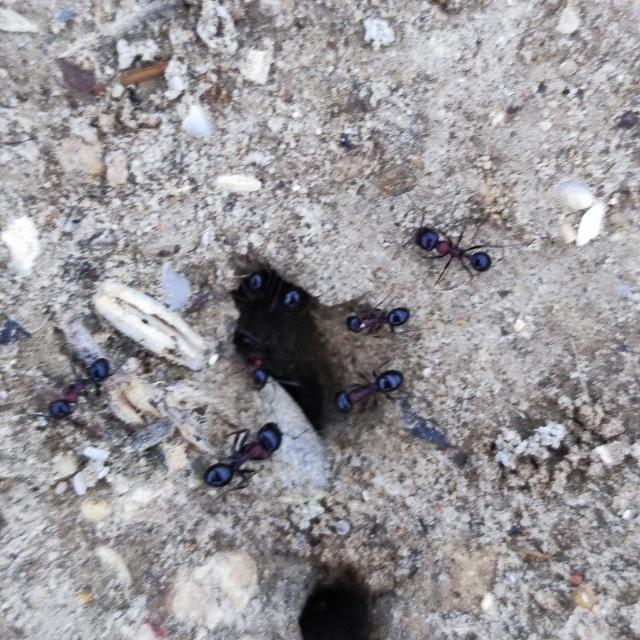Messor: (209, 413, 277, 497), (332, 356, 406, 424), (408, 220, 496, 276), (53, 345, 107, 425), (342, 296, 411, 342), (234, 327, 270, 383), (272, 283, 312, 323), (236, 266, 272, 306)
